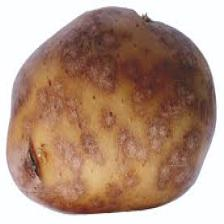Diseased-fungal potato: (5, 8, 216, 215)
